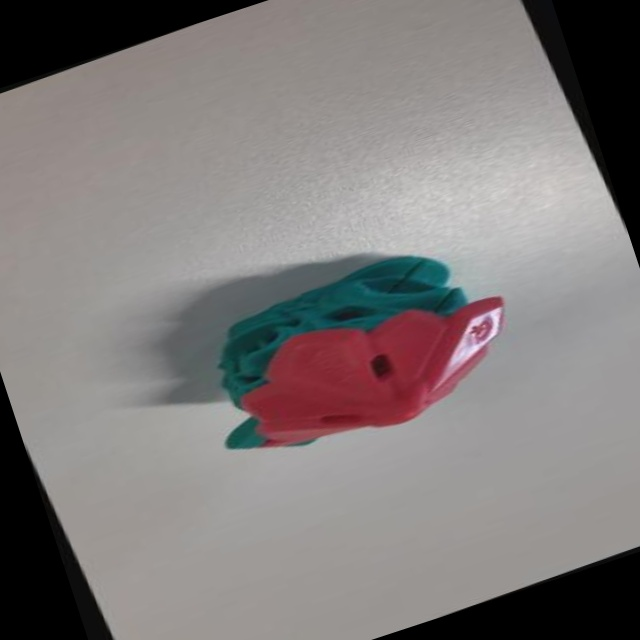House: (158, 203, 553, 492)
